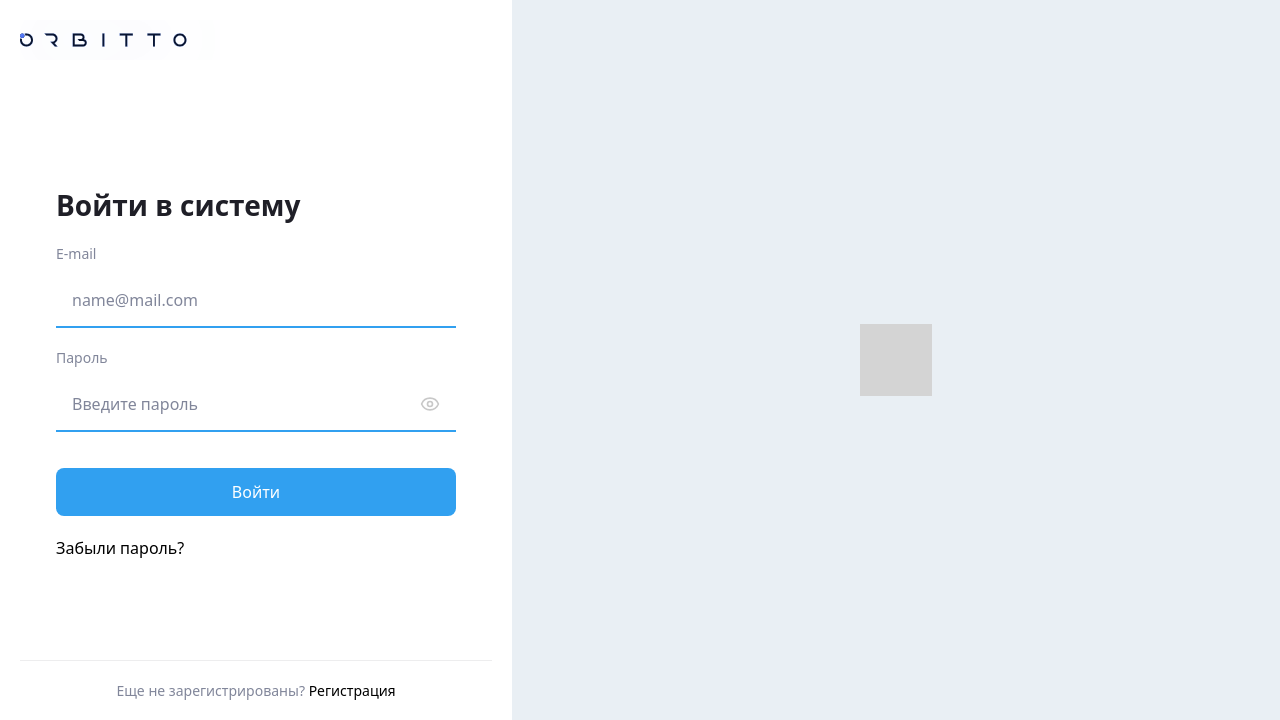
Test case: LoginForm › shows server error on failed login
Type "test@mail.com" into the field with placeholder "name@mail.com" at (256, 300), box [56,272,456,328]
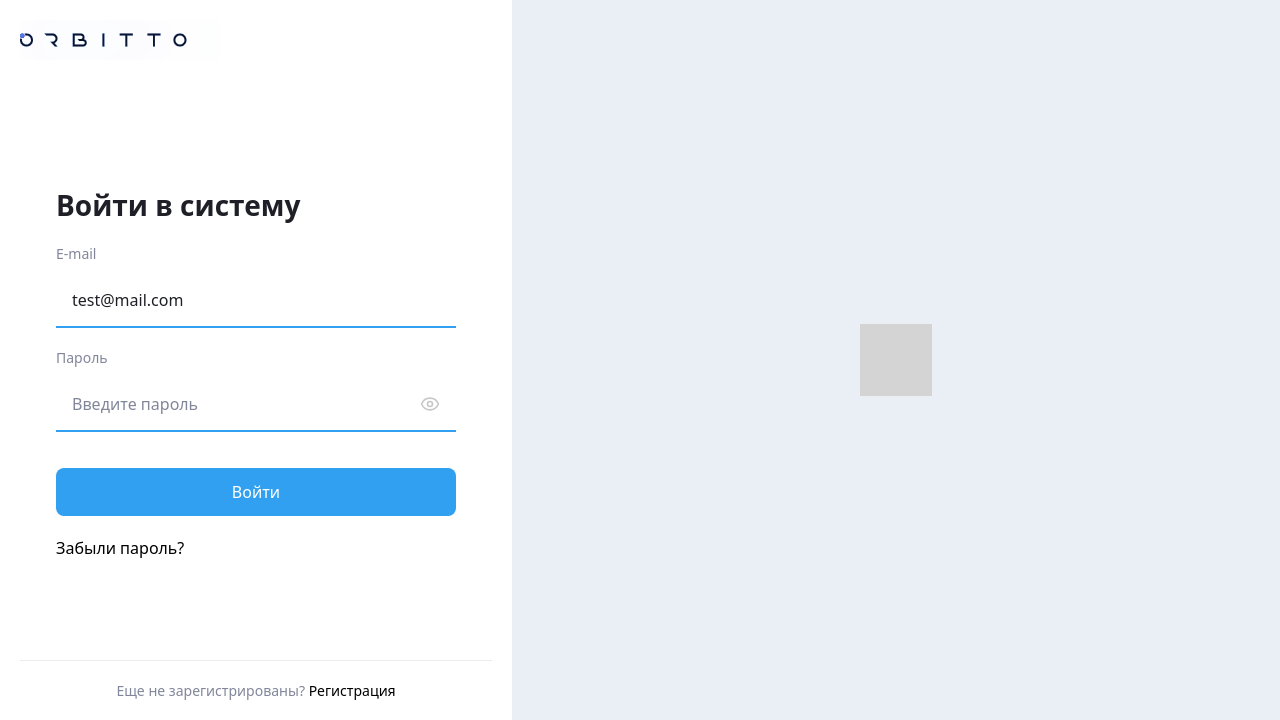
Type "12345678" into the password field with placeholder "Введите пароль" at (256, 404), box [56,376,456,432]
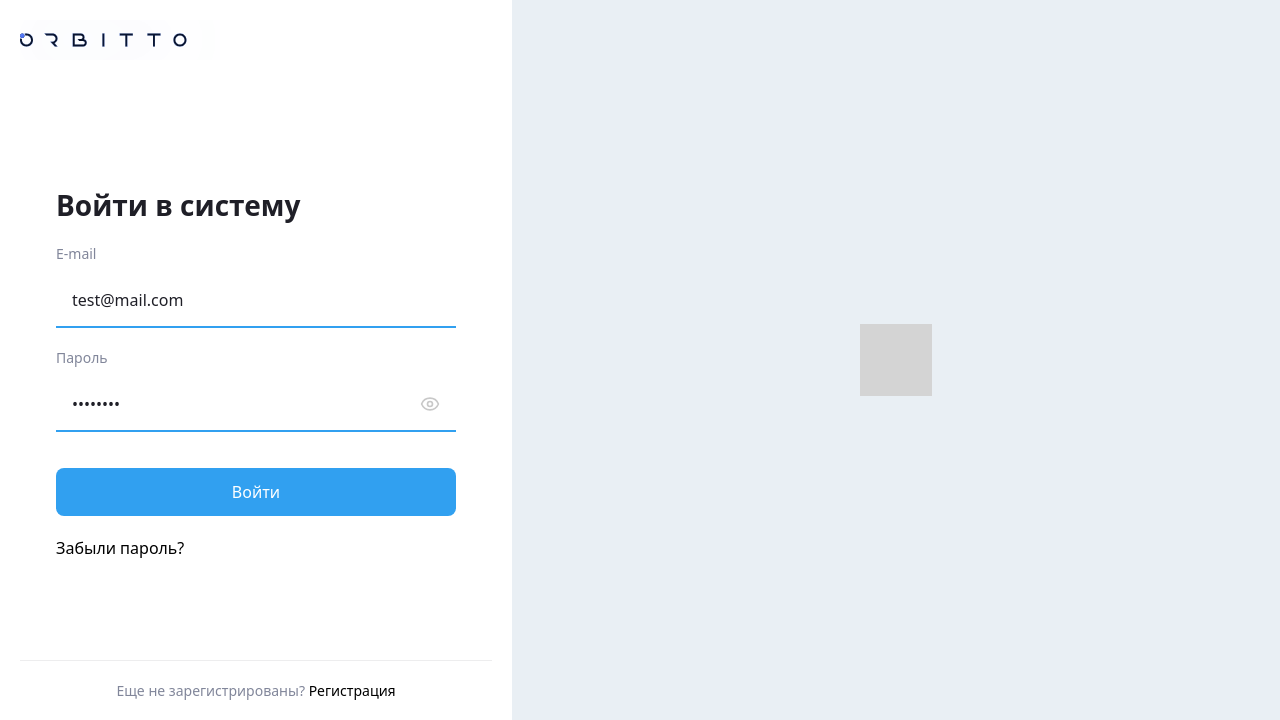
Submit the form from the button "Войти", box [56,468,456,516]
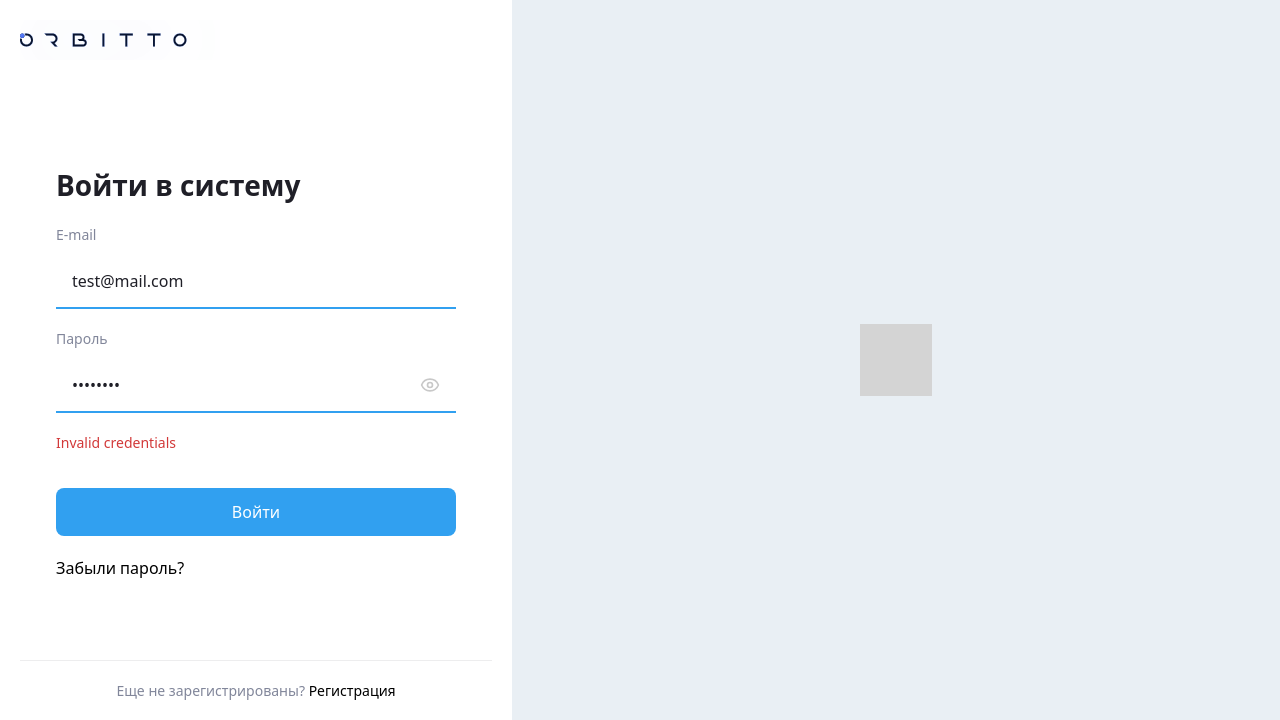
expect the message reads "Invalid credentials": met, box [56,432,176,452]
